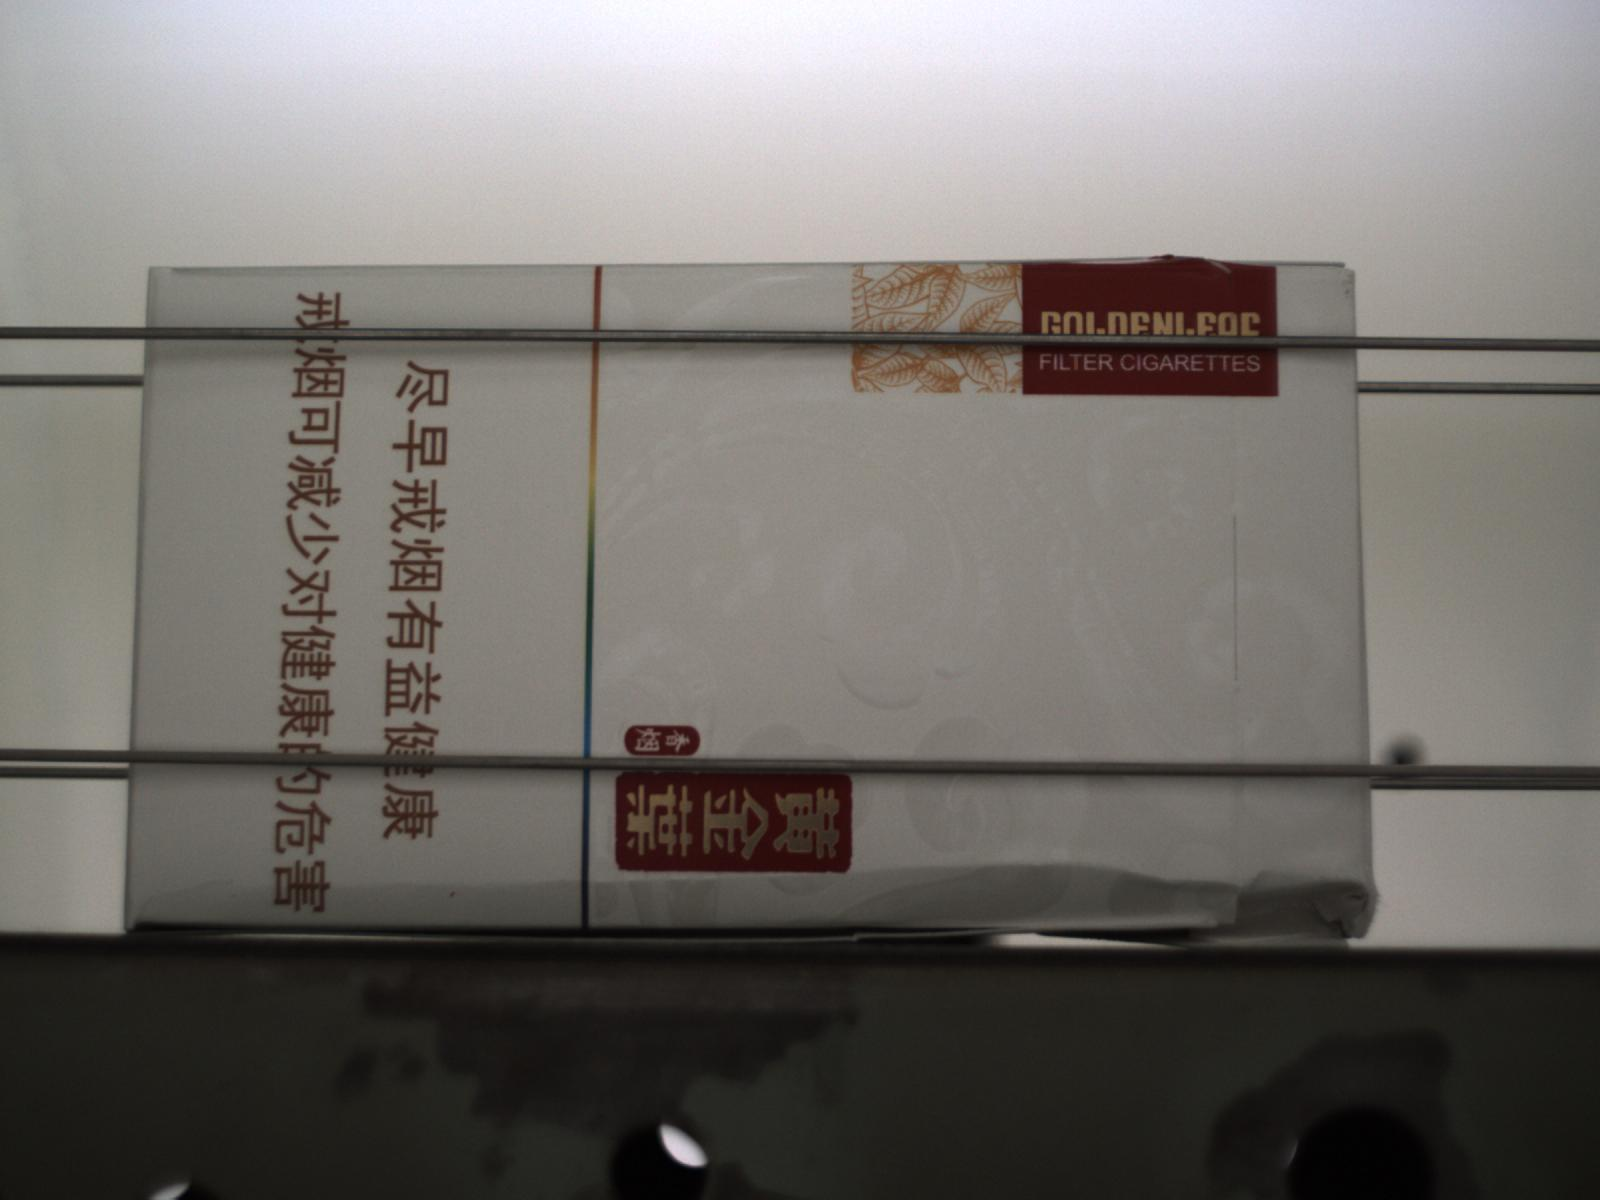boxDamage_back_heavy: (118, 862, 1380, 942)
crease_corner_heavy: (121, 894, 161, 937)
dirtySpot: (1342, 284, 1353, 297), (449, 889, 460, 901)
